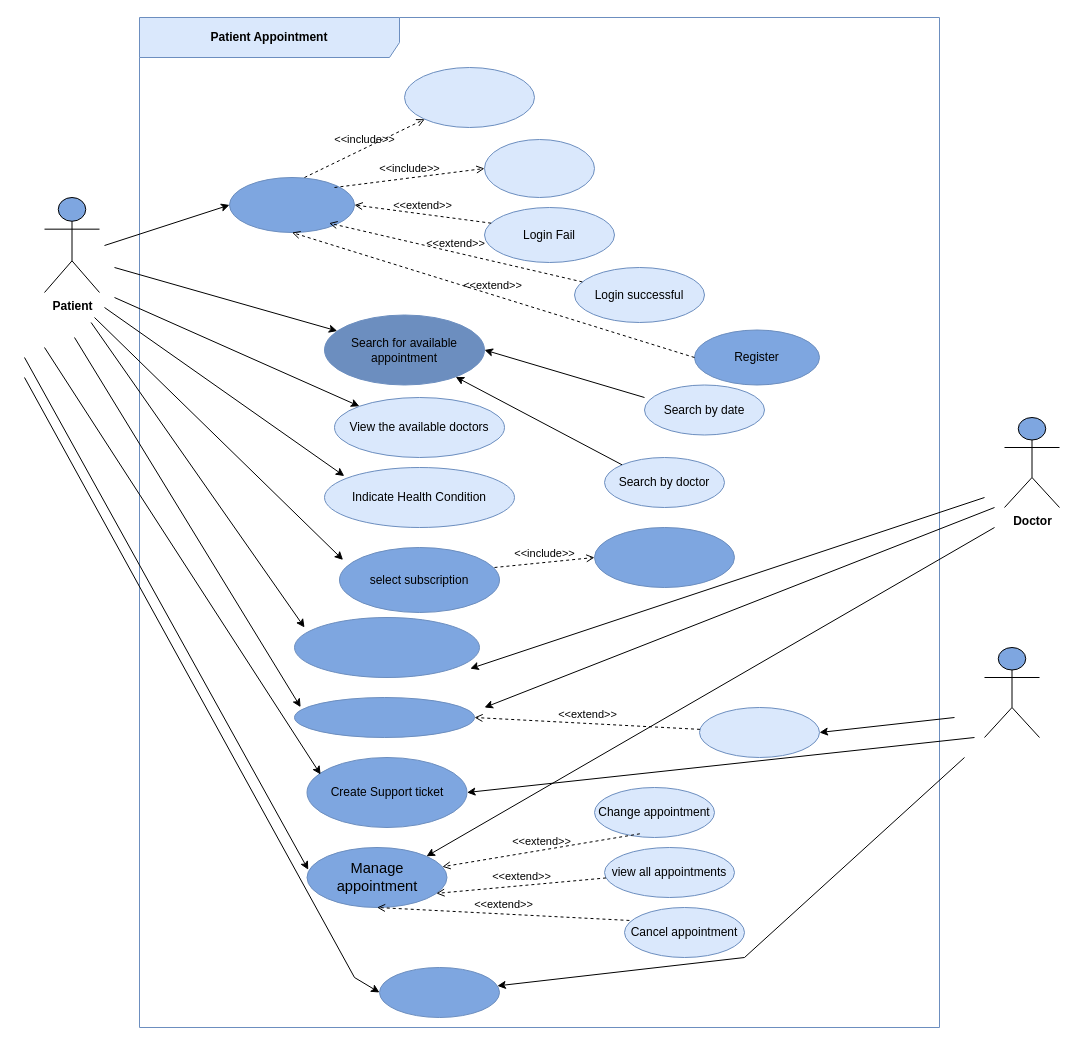
Some shapes in this 1077 by 1045 pixel diagram are drawn without their labels. The shapes that lost their labels are listed below. From the top down, each one's centre as x and y in pixels, then its label:
At pixel 469 97: "Enter username".
At pixel 539 168: "Enter password".
At pixel 291 204: "Login".
At pixel 664 557: "Make a payment".
At pixel 387 647: "get Consultation".
At pixel 1012 692: "Staff".
At pixel 384 717: "view prescription".
At pixel 759 732: "Send Delivery".
At pixel 439 992: "post review and ratings".
